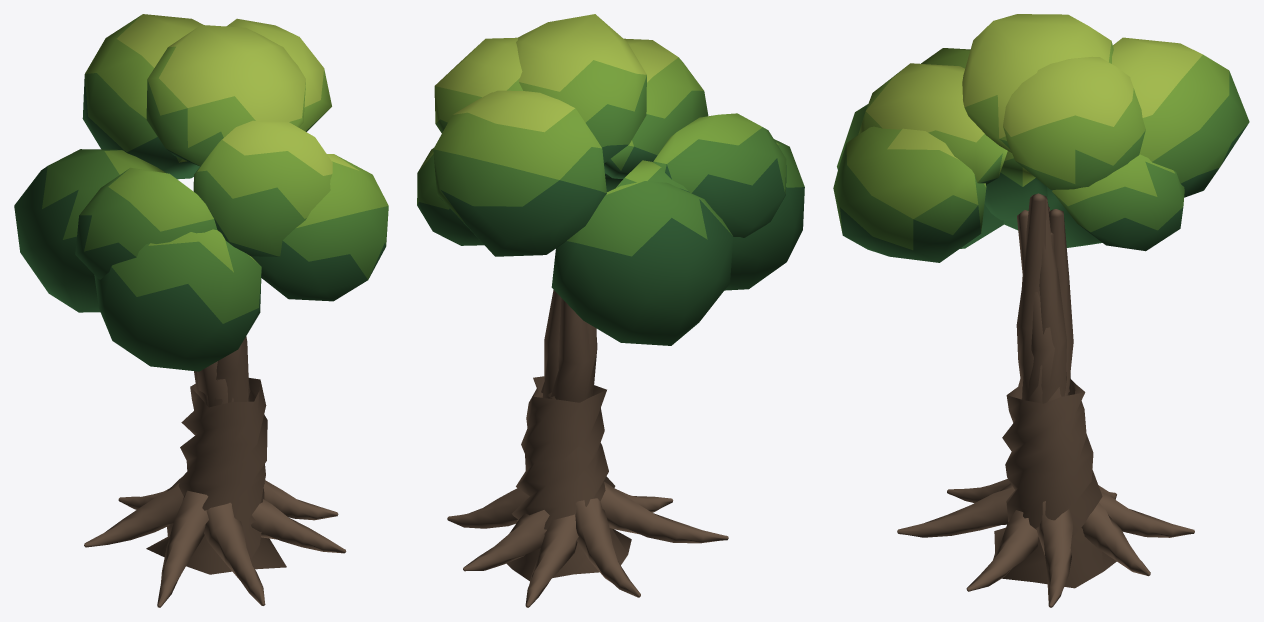
Rendered from AncientOakA_FAR.glb.
3 renders of one model, left to right at view 1: azimuth 30°, elevation 25°; view 2: azimuth 150°, elevation 25°; view 3: azimuth 270°, elevation 25°, orthographic. The views are drawn at different scales.
Parts seen in each view (by area): view 1: AncientOakA_FAR.leafMid, AncientOakA_FAR.bark, AncientOakA_FAR.leafDark, AncientOakA_FAR.leafLight, AncientOakA_FAR.leafGold; view 2: AncientOakA_FAR.leafDark, AncientOakA_FAR.bark, AncientOakA_FAR.leafMid, AncientOakA_FAR.leafLight, AncientOakA_FAR.leafGold; view 3: AncientOakA_FAR.bark, AncientOakA_FAR.leafGold, AncientOakA_FAR.leafLight, AncientOakA_FAR.leafMid, AncientOakA_FAR.leafDark.
Boxes of the visible parts, box(x1,y1,x2,y2) form: AncientOakA_FAR.leafMid: box(42, 73, 388, 323); AncientOakA_FAR.bark: box(84, 336, 346, 607); AncientOakA_FAR.leafDark: box(14, 76, 385, 371); AncientOakA_FAR.leafLight: box(85, 15, 388, 272); AncientOakA_FAR.leafGold: box(116, 14, 358, 175); AncientOakA_FAR.leafDark: box(417, 144, 804, 345); AncientOakA_FAR.bark: box(447, 290, 728, 607); AncientOakA_FAR.leafMid: box(417, 75, 804, 256); AncientOakA_FAR.leafLight: box(418, 57, 779, 194); AncientOakA_FAR.leafGold: box(435, 14, 678, 132); AncientOakA_FAR.bark: box(897, 193, 1194, 607); AncientOakA_FAR.leafGold: box(866, 14, 1202, 159); AncientOakA_FAR.leafLight: box(846, 41, 1229, 218); AncientOakA_FAR.leafMid: box(833, 71, 1249, 250); AncientOakA_FAR.leafDark: box(837, 123, 1248, 262).
Bounding box in the file's own units: 53.47 × 90.52 × 63.34.
